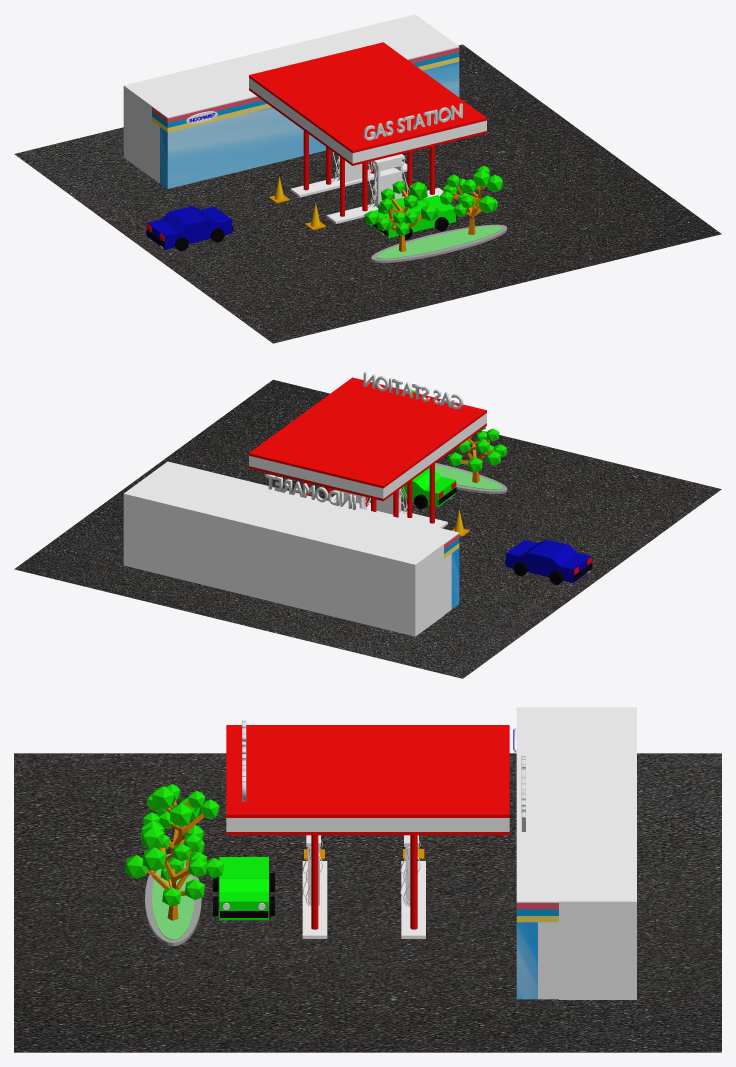
File: projek animasi 1 jihanz.glb
3 renders of one model, top to bottom at view 1: azimuth 30°, elevation 25°; view 2: azimuth 150°, elevation 25°; view 3: azimuth 270°, elevation 25°, orthographic. The views are drawn at different scales.
Parts seen in each view (by area): view 1: MyPlane, Atap_Merah.001, Dinidng putih.001, Dinding, Body, atap_putih, Gedung 5, Tree.002, Tree.003, Taman.001, Body.001, Text.001 (+7 smaller); view 2: MyPlane, Dinidng putih.001, Atap_Merah.001, Gedung 5, Body, atap_putih, Tree.002, Body.001, Text.001, Text.002, Taman.001, Atap_Merah (+1 smaller); view 3: MyPlane, Atap_Merah.001, Dinidng putih.001, Gedung 5, Tree.003, atap_putih, Body.001, Tree.002, Dinding, Dinidng putih, Taman.001, alas_tiang.001 (+5 smaller).
Boxes of the visible parts, x1,y1,x2,y2 form: MyPlane: (14,44,721,343); Atap_Merah.001: (249,42,486,153); Dinidng putih.001: (123,14,443,177); Dinding: (160,61,459,188); Body: (146,206,232,251); atap_putih: (249,78,486,163); Gedung 5: (152,35,459,118); Tree.002: (364,181,437,251); Tree.003: (440,165,503,235); Taman.001: (376,226,502,258); Body.001: (372,195,456,239); Text.001: (363,103,462,140); MyPlane: (14,379,721,678); Dinidng putih.001: (123,473,443,636); Atap_Merah.001: (249,377,486,488); Gedung 5: (152,461,459,544); Body: (505,539,592,584); atap_putih: (249,413,486,498); Tree.002: (448,426,506,482); Body.001: (401,468,456,508); Text.001: (363,372,463,409); Text.002: (265,474,355,509); Taman.001: (429,464,502,489); Atap_Merah: (249,423,486,500); MyPlane: (14,753,721,1052); Atap_Merah.001: (226,725,509,817); Dinidng putih.001: (559,707,636,999); Gedung 5: (516,707,558,902); Tree.003: (124,826,224,920); atap_putih: (226,818,509,831); Body.001: (213,857,274,920); Tree.002: (141,784,219,858); Dinding: (516,922,537,999); Dinidng putih: (538,922,558,999); Taman.001: (152,861,194,939); alas_tiang.001: (302,861,327,938).
Bounding box in the file's own units: 200 × 47.59 × 200.
Materials: 80 (2 with a texture image).
